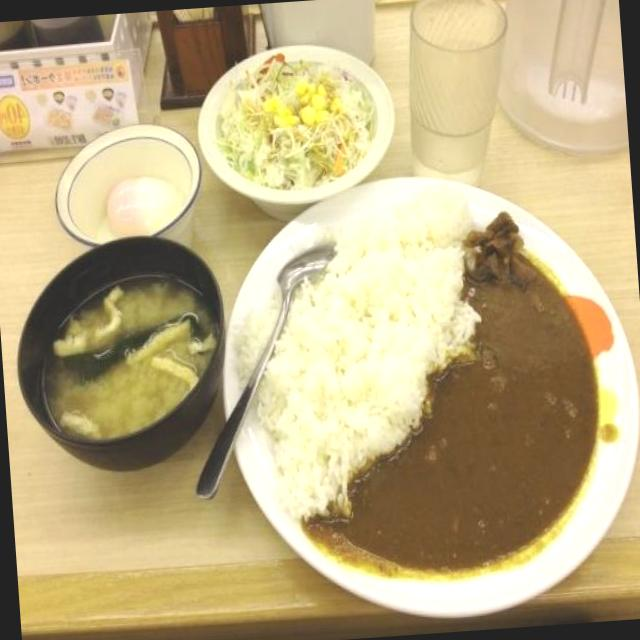Beef Curry: (309, 199, 598, 574)
Rice: (252, 196, 482, 468)
